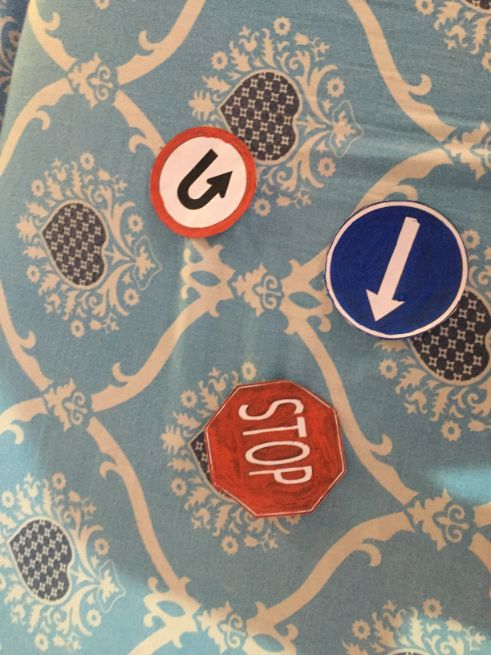go-stright: (326, 200, 472, 346)
stop: (202, 377, 341, 516)
u-turn: (147, 125, 265, 243)
